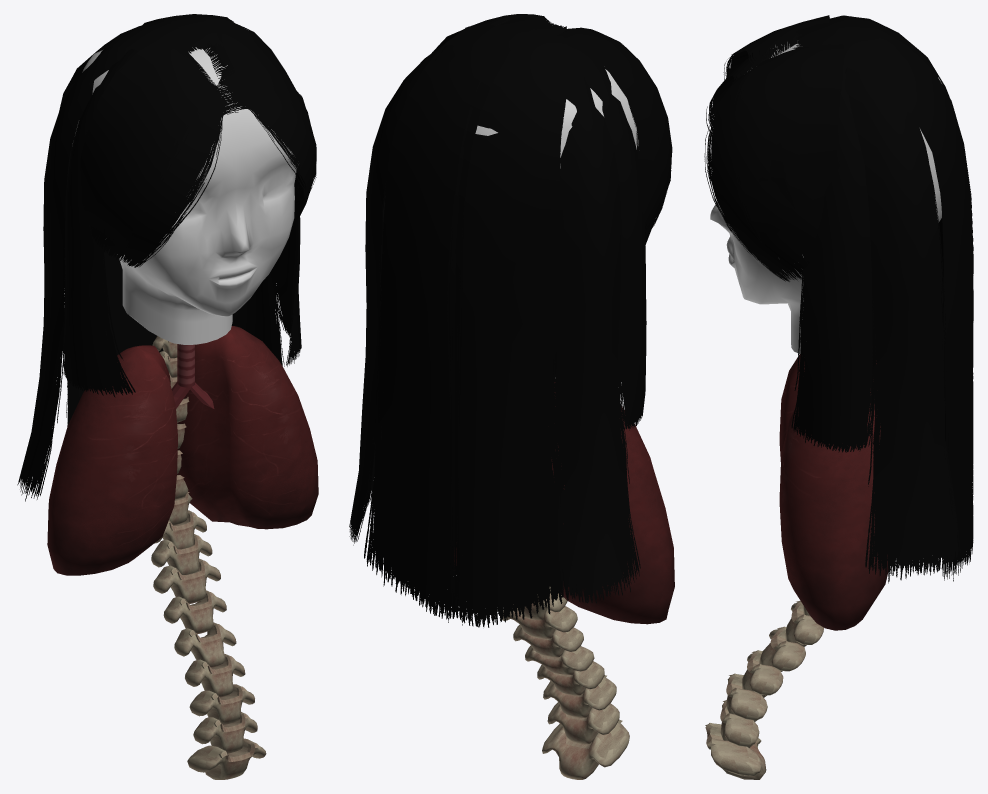
Rendered from PenanggalAttack.fbx.
3 views of the same model, side by side, from view 1: azimuth 30°, elevation 25°; view 2: azimuth 150°, elevation 25°; view 3: azimuth 270°, elevation 25° (orthographic). The views are drawn at different scales.
Parts seen in each view (by area): view 1: face, LungLeft, LungRight, HairFrontLeft2, HairbackRight2, HairSideLeft, HairFrontLeft1, HairFrontRight1, HairFrontRight2, HairbackRight1, HairSideRight, HairBackLeft1 (+11 smaller); view 2: HairbackRight1, HairBackLeft1, HairbackRight2, HairSideLeft, LungLeft, HairBackLeft2, HairFrontLeft2, spine017, spine016, spine015, face, spine011 (+3 smaller); view 3: HairBackLeft2, HairSideRight, HairBackLeft1, HairFrontRight2, LungRight, HairFrontRight1, face, HairbackRight1, spine017, HairFrontLeft2, spine013, spine015 (+5 smaller).
Part boxes in pixels (x1=…): face: x1=72, y1=47, x2=298, y2=344; LungLeft: x1=47, y1=345, x2=177, y2=575; LungRight: x1=177, y1=326, x2=318, y2=529; HairFrontLeft2: x1=80, y1=39, x2=219, y2=251; HairbackRight2: x1=17, y1=33, x2=132, y2=501; HairSideLeft: x1=63, y1=49, x2=138, y2=397; HairFrontLeft1: x1=90, y1=83, x2=238, y2=267; HairFrontRight1: x1=217, y1=69, x2=315, y2=224; HairFrontRight2: x1=203, y1=18, x2=316, y2=202; HairbackRight1: x1=59, y1=20, x2=205, y2=426; HairSideRight: x1=270, y1=171, x2=301, y2=366; HairBackLeft1: x1=120, y1=14, x2=234, y2=352; HairbackRight1: x1=447, y1=22, x2=582, y2=627; HairBackLeft1: x1=364, y1=17, x2=548, y2=622; HairbackRight2: x1=536, y1=65, x2=640, y2=603; HairSideLeft: x1=574, y1=48, x2=646, y2=430; LungLeft: x1=551, y1=382, x2=674, y2=624; HairBackLeft2: x1=349, y1=40, x2=470, y2=545; HairFrontLeft2: x1=557, y1=27, x2=672, y2=232; spine017: x1=542, y1=719, x2=629, y2=779; spine016: x1=547, y1=702, x2=619, y2=744; spine015: x1=543, y1=675, x2=616, y2=717; face: x1=475, y1=69, x2=638, y2=168; spine011: x1=502, y1=604, x2=577, y2=638; HairBackLeft2: x1=845, y1=56, x2=960, y2=583; HairSideRight: x1=791, y1=66, x2=875, y2=452; HairBackLeft1: x1=792, y1=27, x2=973, y2=581; HairFrontRight2: x1=731, y1=44, x2=844, y2=254; LungRight: x1=779, y1=392, x2=888, y2=630; HairFrontRight1: x1=704, y1=69, x2=813, y2=281; face: x1=710, y1=42, x2=941, y2=353; HairbackRight1: x1=795, y1=15, x2=973, y2=542; spine017: x1=705, y1=723, x2=766, y2=779; HairFrontLeft2: x1=723, y1=15, x2=829, y2=79; spine013: x1=759, y1=626, x2=805, y2=671; spine015: x1=726, y1=673, x2=767, y2=721.
Bounding box in the file's own units: 208 × 542 × 178.
